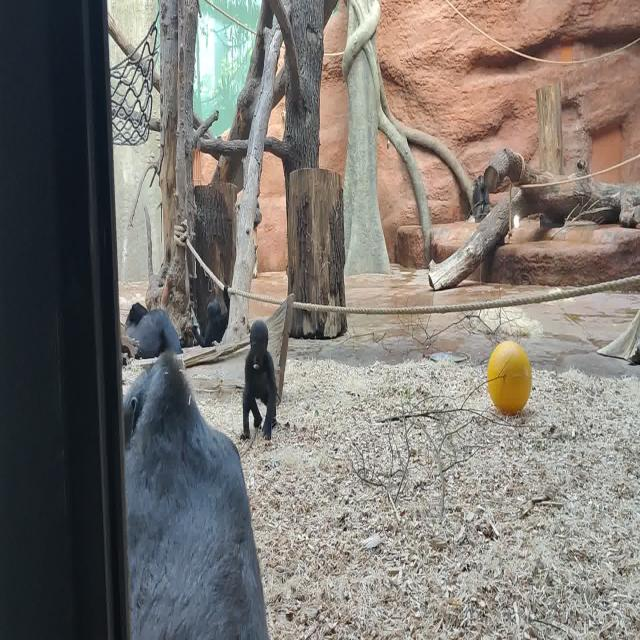monkey: (122, 351, 270, 640), (240, 318, 277, 441), (125, 302, 183, 360), (192, 285, 230, 348)
